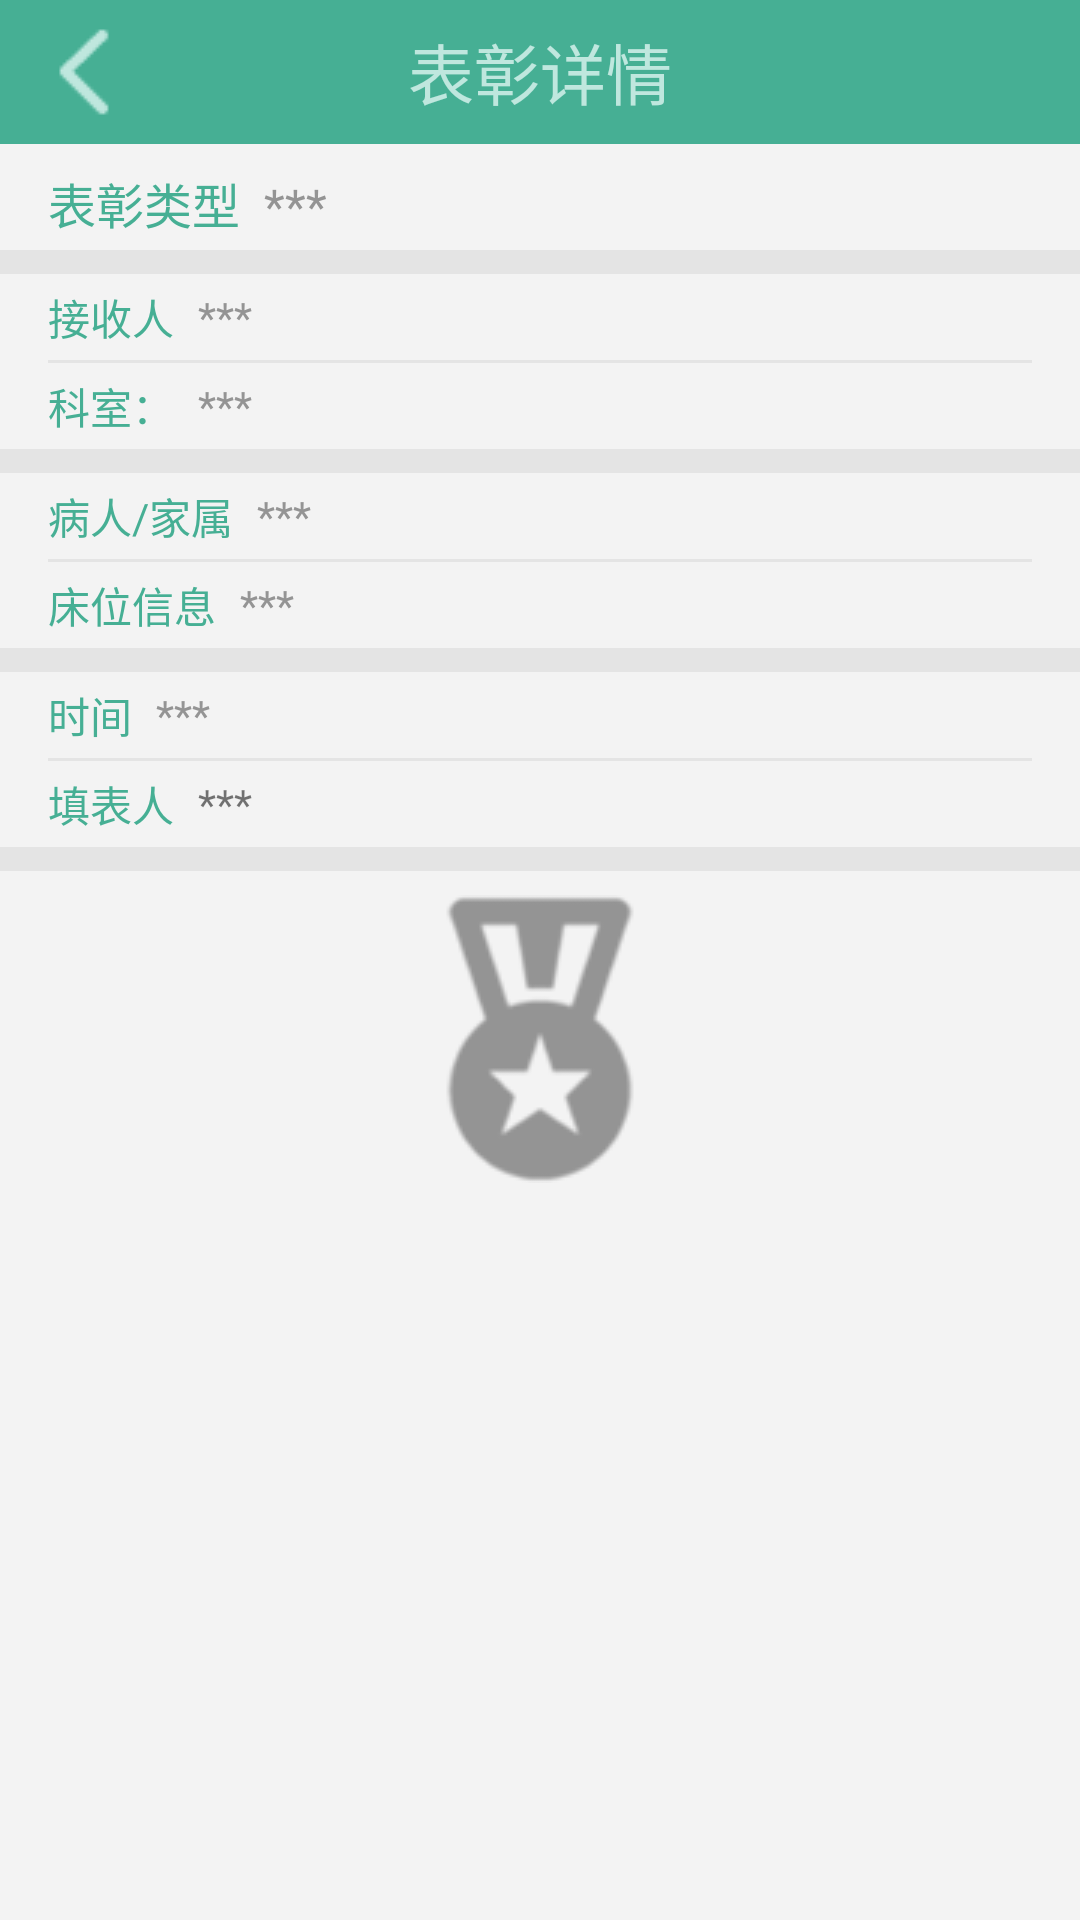

Icon bounding boxes for this 1080x1920 phone screenshot, format (x1, y1, x2, y2):
award: (448, 897, 632, 1181)
